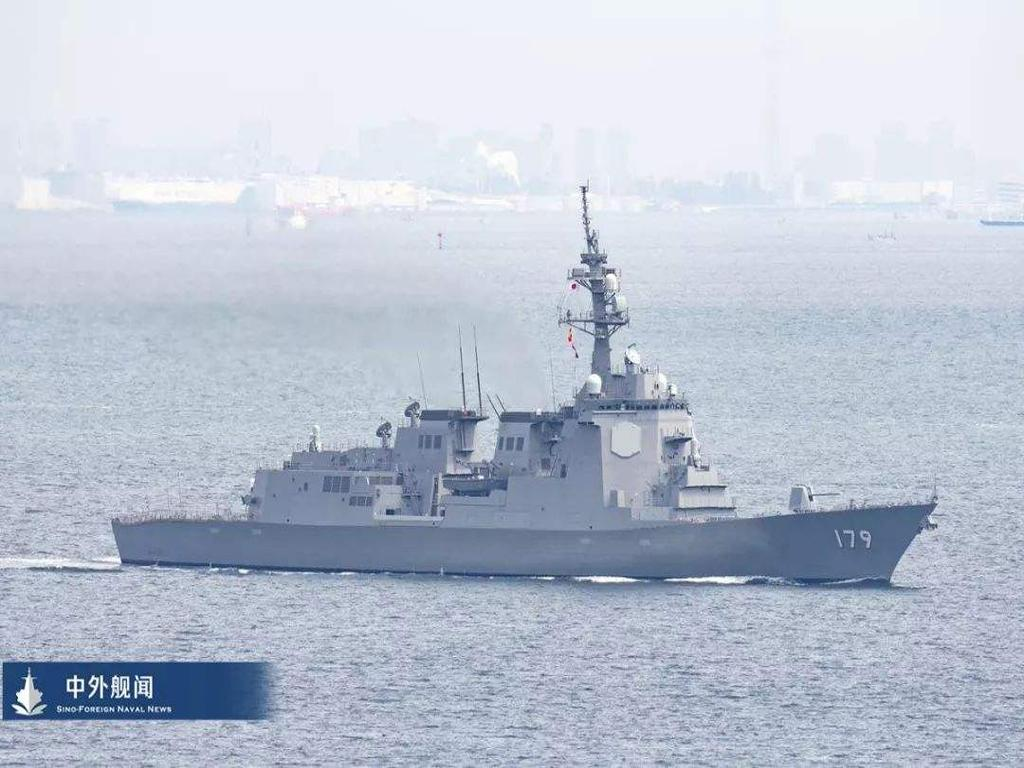Warship: (106, 186, 938, 604)
